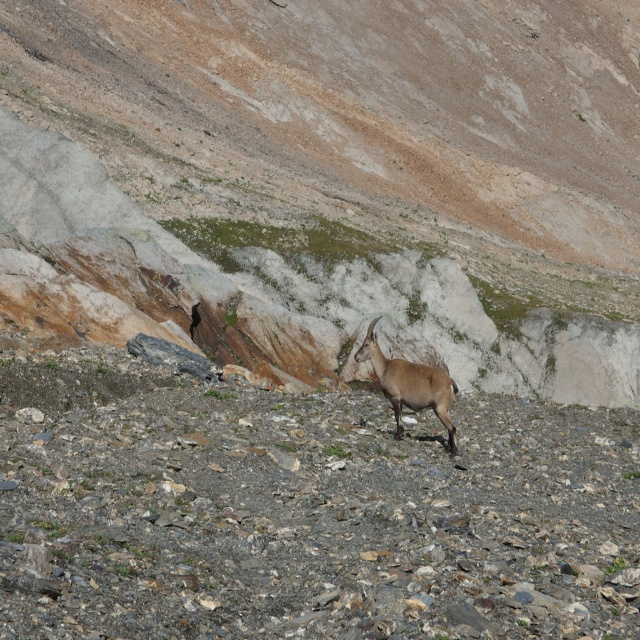Goat: (353, 316, 460, 462)
